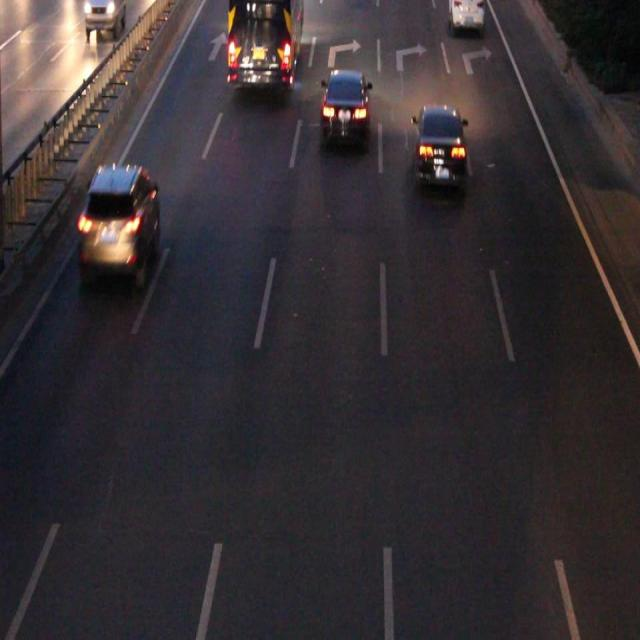car: (82, 168, 156, 284), (414, 107, 464, 187), (322, 72, 368, 139), (448, 1, 482, 27)
van: (227, 1, 302, 86)
